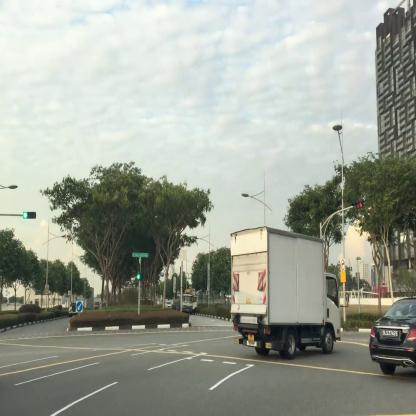green_traffic_light: (22, 210, 36, 219), (136, 260, 140, 279)
